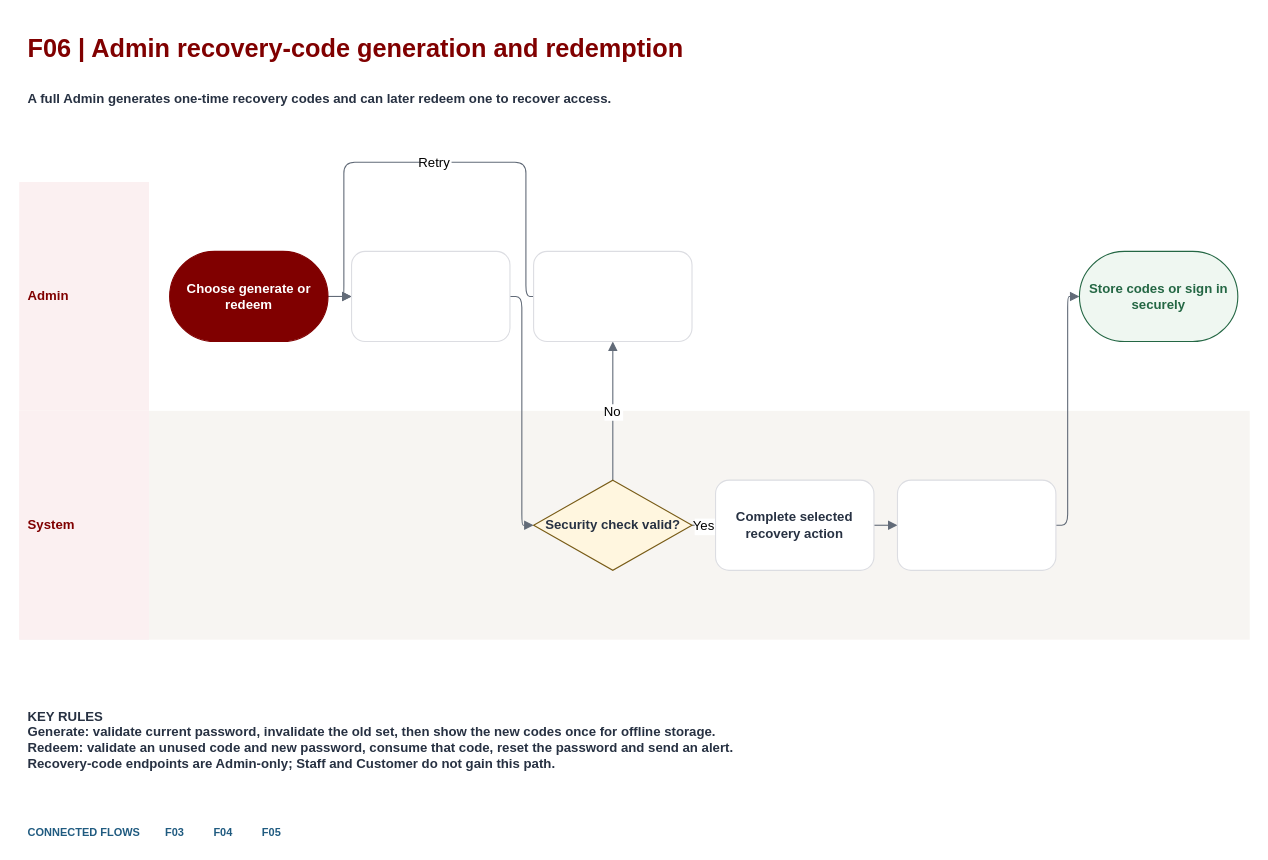
This 1268x860 diagram has some shape labels left out. The centre of each missing label's shape, as x and y in pixels:
"Retry within limits; no access granted" goes at point (612, 296).
"Send security alert; retain audit" goes at point (976, 524).
"Supply password or unused code" goes at point (430, 296).
